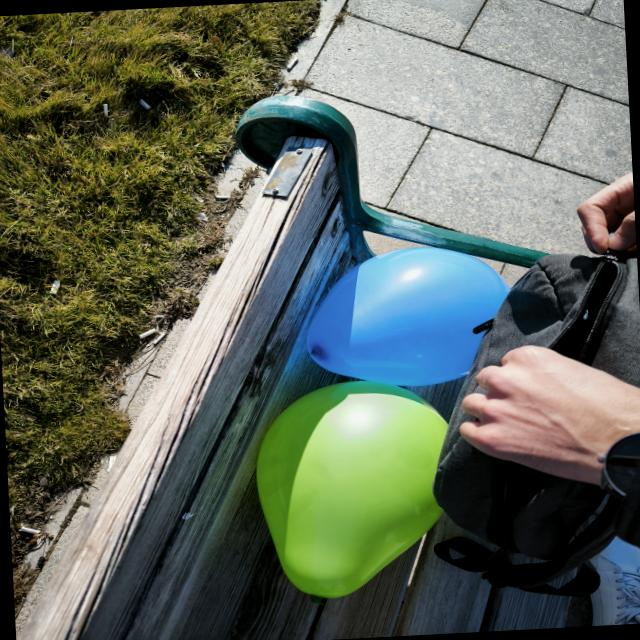balloon: (257, 381, 447, 598), (307, 247, 509, 386)
